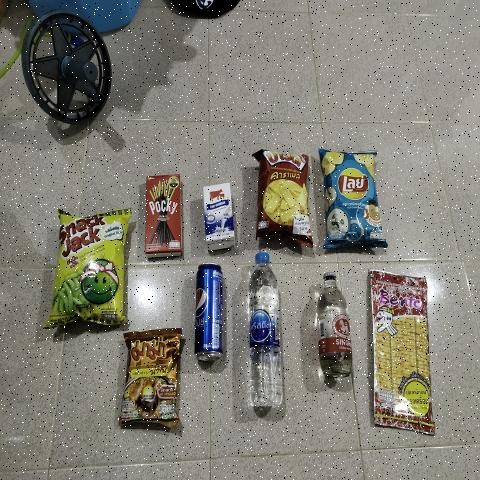bento_red: (369, 270, 431, 433)
crystal: (248, 252, 285, 414)
lay_blue: (322, 153, 378, 240)
mama: (127, 333, 177, 416)
party_red: (261, 149, 311, 245)
pepsi_blue: (195, 261, 227, 371)
pokki: (146, 176, 183, 253)
singha_soda: (320, 269, 355, 386)
snack_jack: (58, 219, 122, 320)
thai_denmark: (200, 180, 235, 252)
